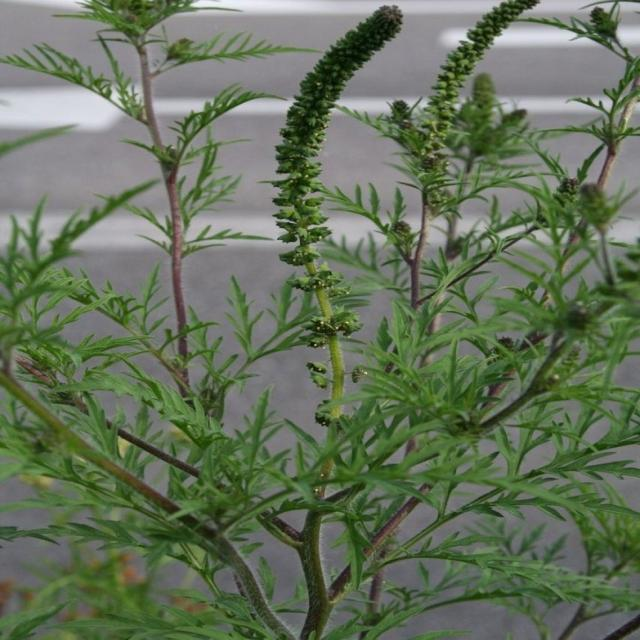ambrosia: (198, 9, 428, 345), (28, 0, 318, 142), (428, 0, 563, 138)
